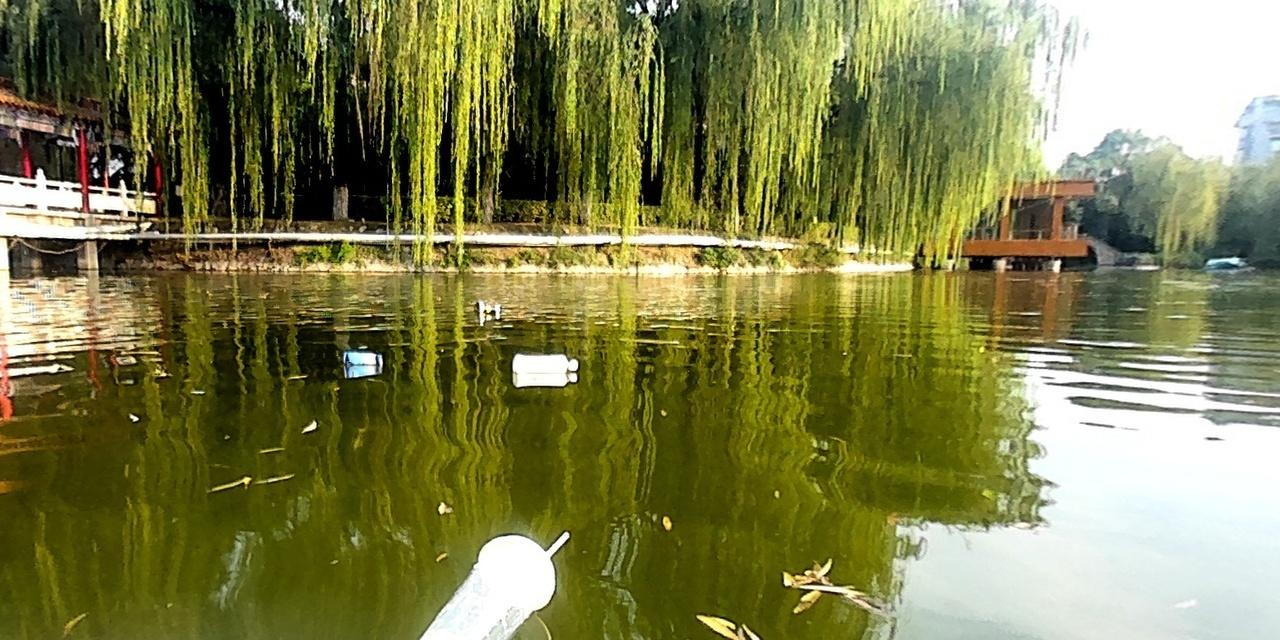bottle: (400, 526, 567, 639), (508, 350, 581, 375), (337, 345, 384, 367), (472, 296, 503, 315)
